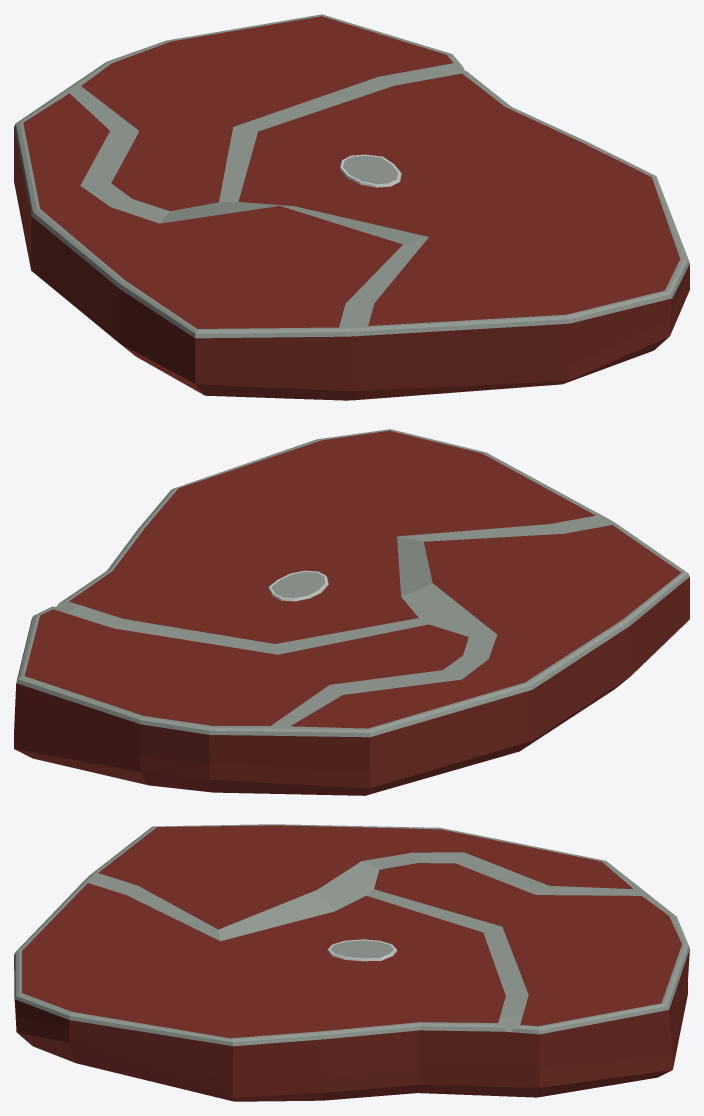
Rendered from Meat_2.fbx.
3 renders of one model, top to bottom at view 1: azimuth 30°, elevation 25°; view 2: azimuth 150°, elevation 25°; view 3: azimuth 270°, elevation 25°, orthographic. The views are drawn at different scales.
Visible parts, largest first — view 1: Meat_2; view 2: Meat_2; view 3: Meat_2.
Part boxes in pixels (x1,y1,x2,y2): Meat_2: (14, 14, 689, 400); Meat_2: (14, 429, 689, 795); Meat_2: (14, 824, 689, 1101).
Size of the model in its own units: 39.91 by 7.5 by 51.88.
